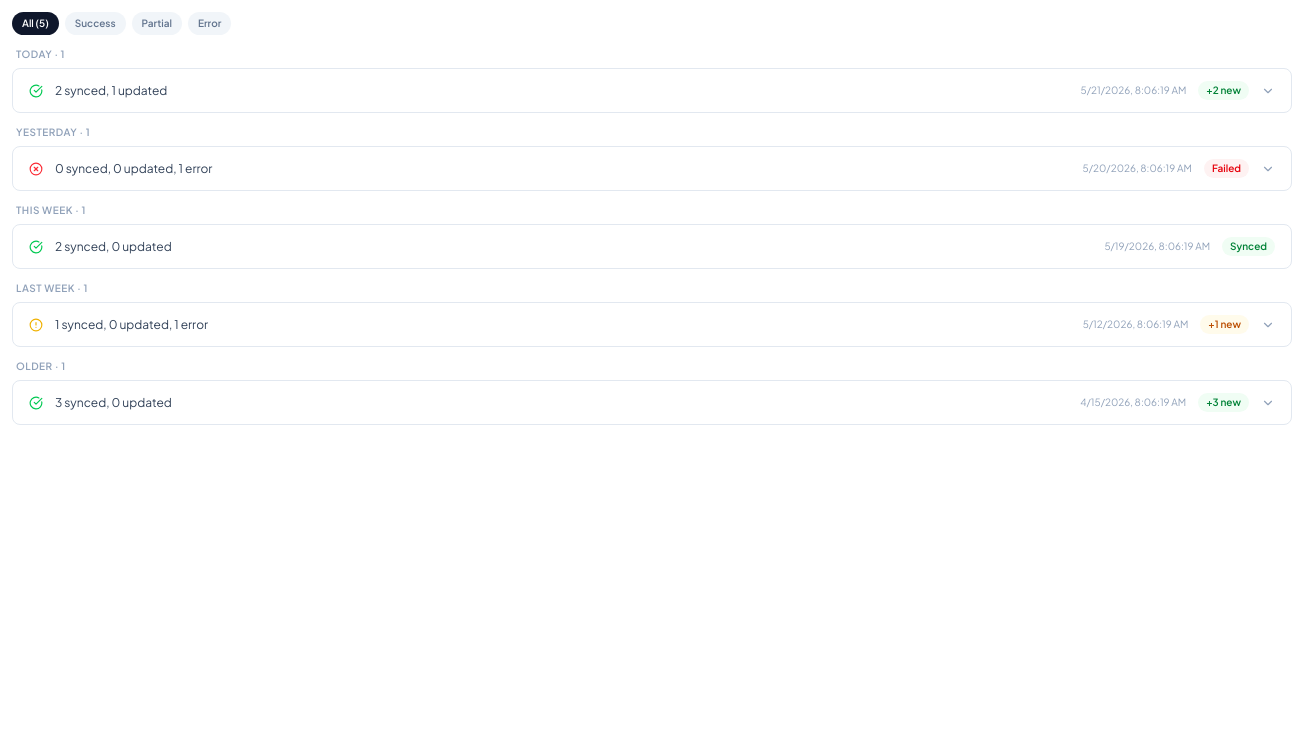
Test: History › closes the open row when a different row is clicked
Click the list item "2 synced, 1 updated 5/21/2026, 8:06:19 AM +2 new" at (652, 90), box 12,68 -> 1291,113
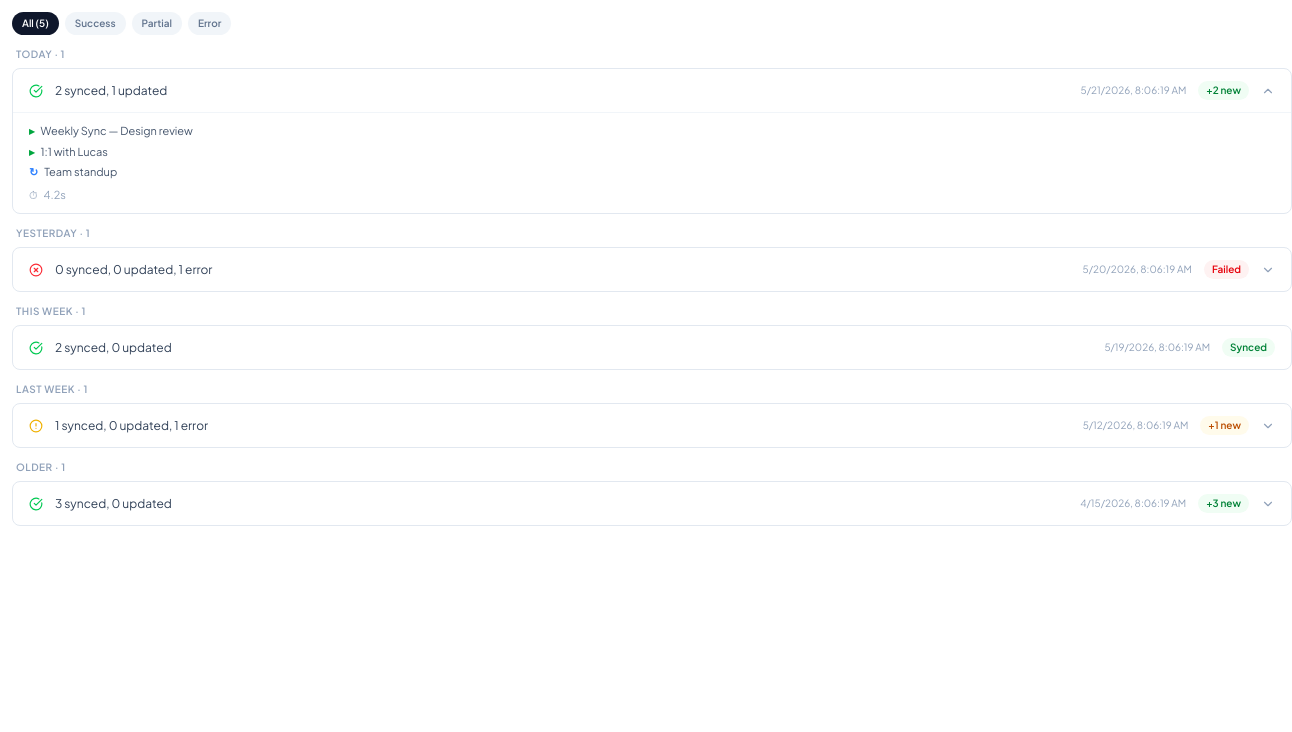
expect the text "Weekly Sync — Design review" is shown: met, box 40,124 -> 193,137
Click the list item "0 synced, 0 updated, 1 error 5/20/2026, 8:06:19 AM Failed" at (652, 270), box 12,247 -> 1291,292
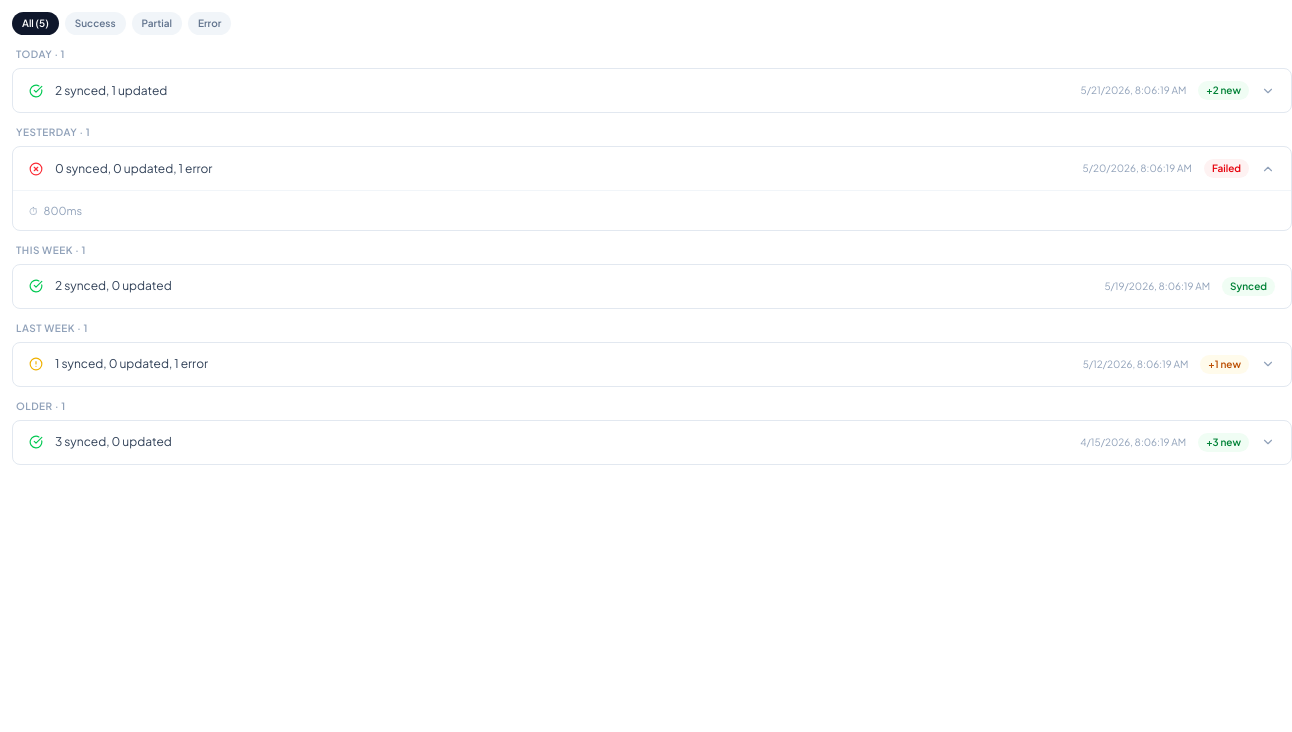
expect the text "Weekly Sync — Design review" is gone: met
